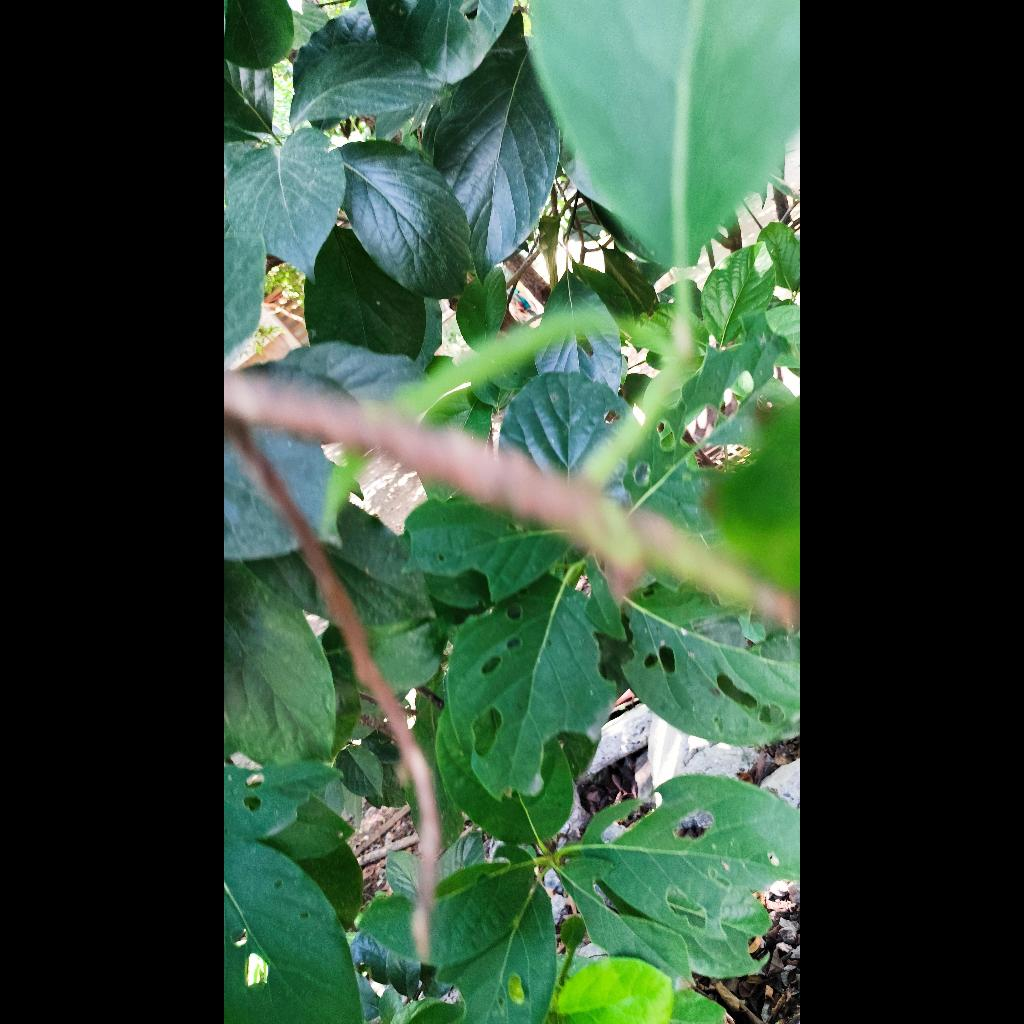Pest Infested: (559, 776, 800, 976), (447, 575, 615, 798), (624, 590, 800, 744)
